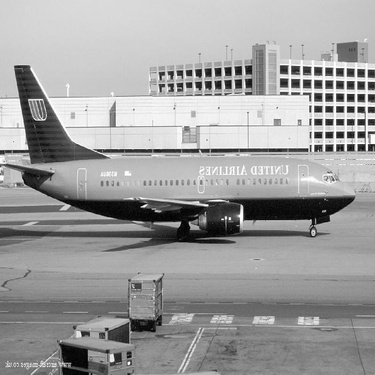airplane: (1, 54, 366, 247)
